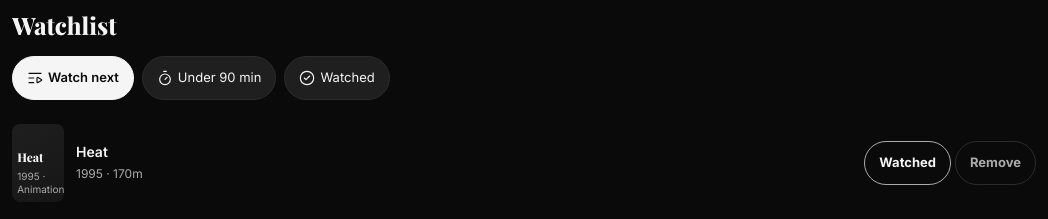
Watchlist › says so when a group is empty
The width and height of the screenshot is (1048, 219).
expect the link "Heat" is shown: met, box left=76, top=143, right=108, bottom=160
Click the button "Under 90 min". click: click(209, 78)
box: left=142, top=56, right=276, bottom=100
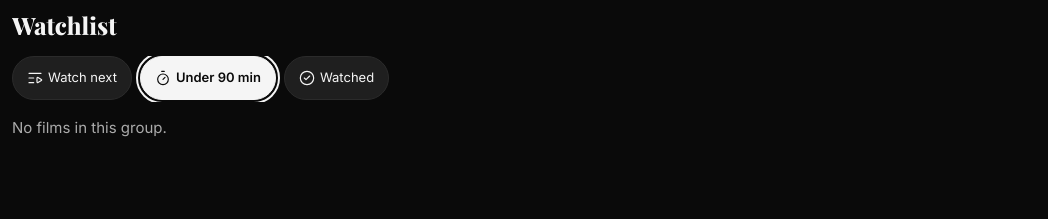
expect the text "No films in this group." is shown: met, box left=12, top=118, right=167, bottom=137
